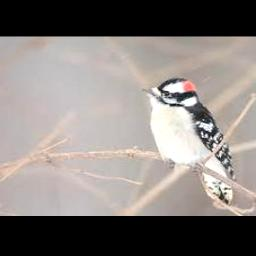Woodpecker: (142, 78, 236, 206)
